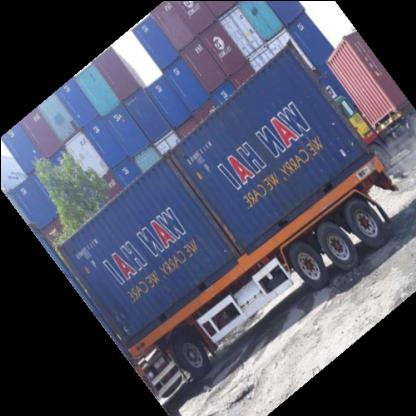Damage: (172, 152, 242, 270), (290, 46, 368, 150)
